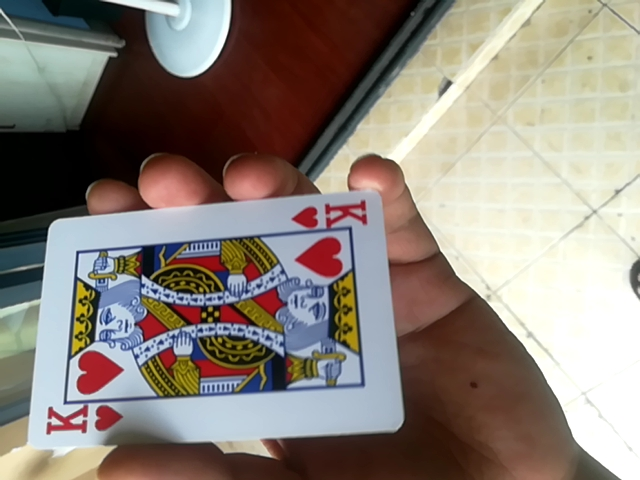hx k: (24, 186, 400, 458)
